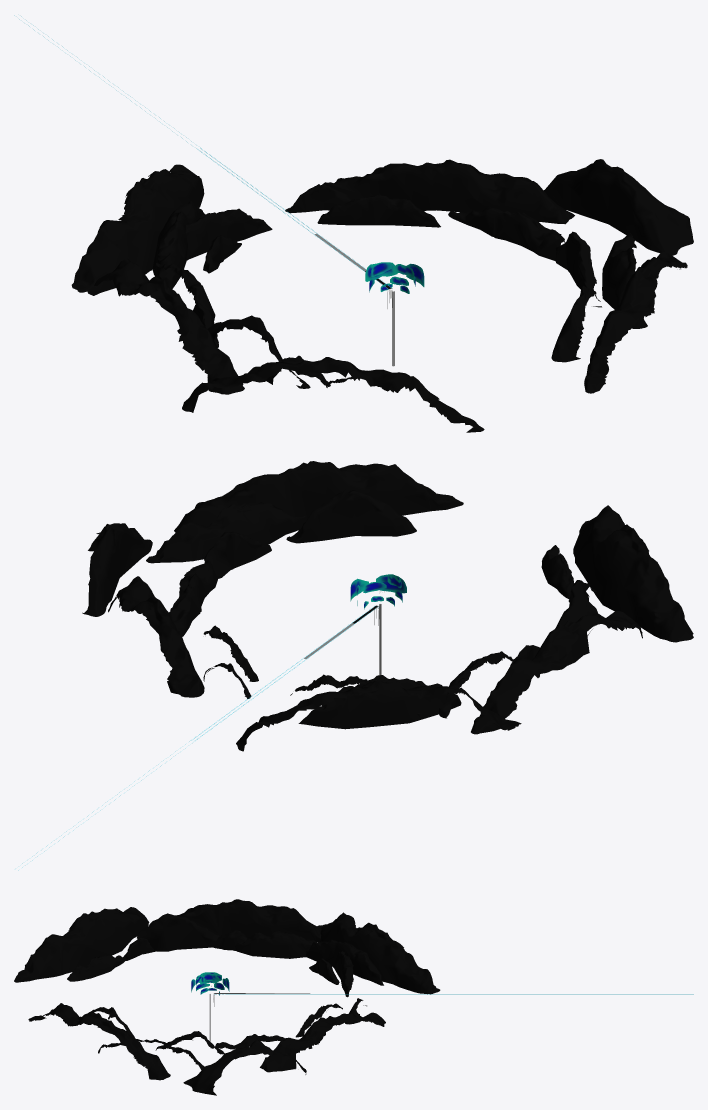
The model's file is billie.glb.
3 renders of one model, top to bottom at view 1: azimuth 30°, elevation 25°; view 2: azimuth 150°, elevation 25°; view 3: azimuth 270°, elevation 25°, orthographic. The views are drawn at different scales.
Parts seen in each view (by area): view 1: FrontMountains, BackMountains, Clouds; view 2: BackMountains, FrontMountains, Clouds; view 3: FrontMountains, BackMountains, Clouds, BoxLight.
Boxes of the visible parts, x1,y1,x2,y2 form: FrontMountains: [71, 159, 693, 394]; BackMountains: [182, 233, 687, 432]; Clouds: [365, 262, 424, 293]; BackMountains: [146, 461, 693, 670]; FrontMountains: [82, 523, 642, 751]; Clouds: [350, 574, 406, 609]; FrontMountains: [155, 899, 440, 1095]; BackMountains: [14, 907, 220, 1080]; Clouds: [191, 972, 229, 995]; BoxLight: [225, 994, 693, 994].
Bounding box in the file's own units: 897 × 182 × 1451.
Materials: 15 (3 with a texture image).
